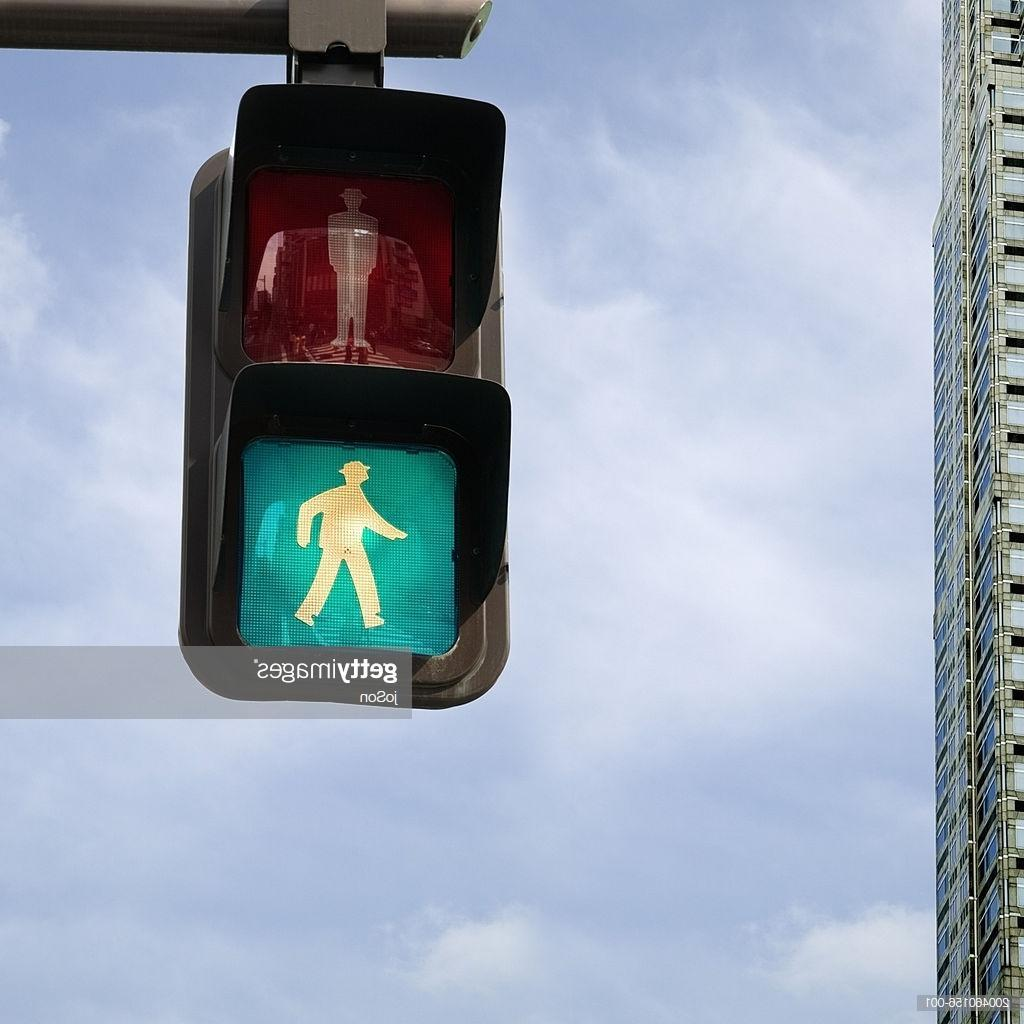green: (138, 102, 560, 698)
